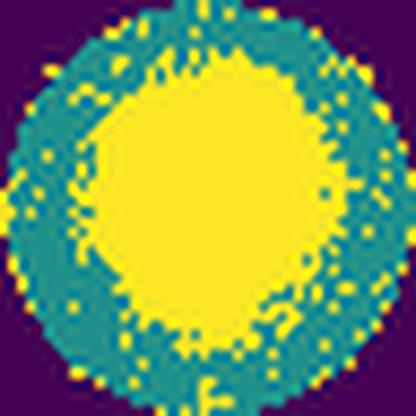Center: (96, 46, 348, 356)
